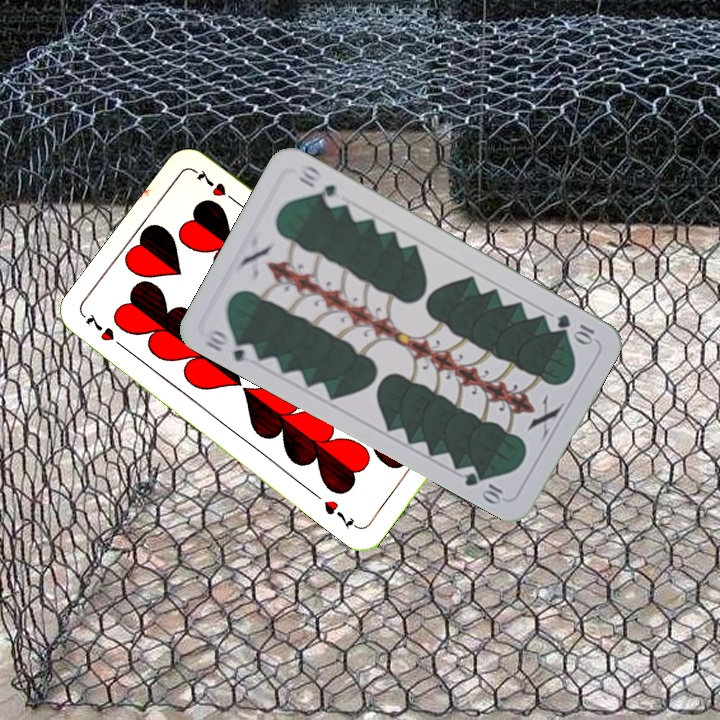G10: (200, 324, 259, 365), (553, 310, 597, 347)
H7: (81, 309, 130, 353)
